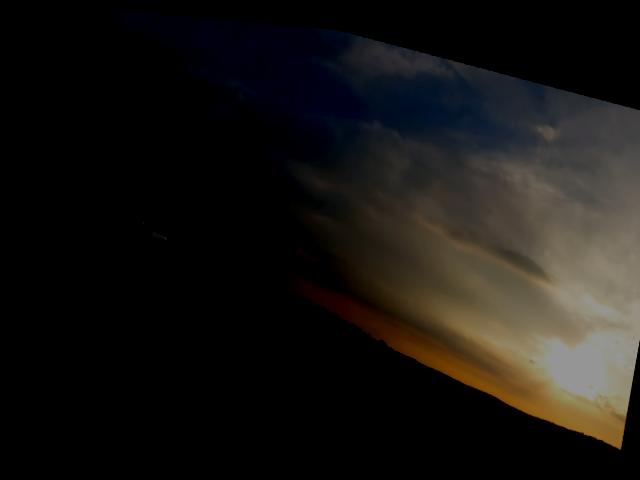plane: (107, 208, 169, 242)
